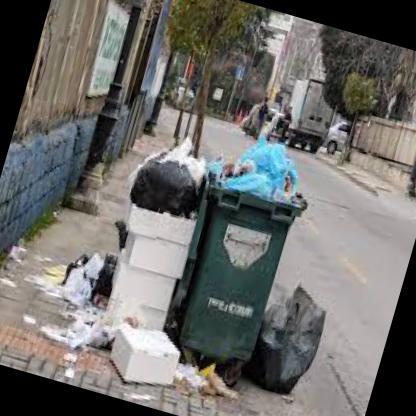Garbage: (244, 275, 336, 404), (205, 126, 304, 206), (53, 207, 127, 314), (126, 141, 208, 220)
